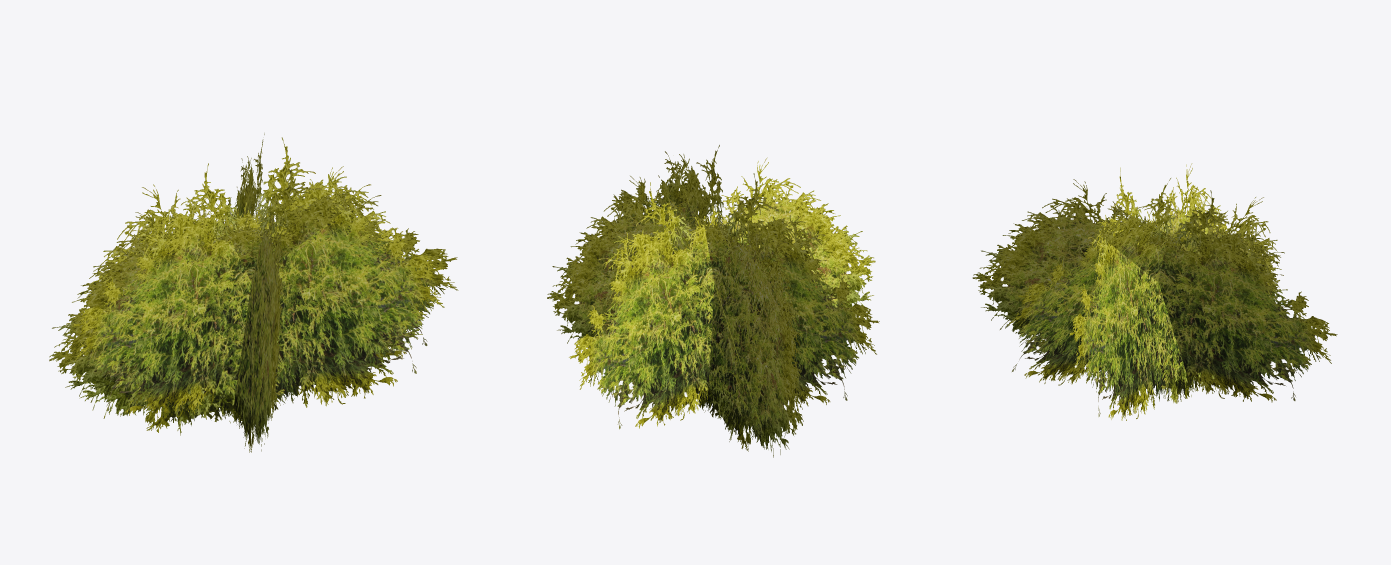
File: Struik1.fbx
3 views of the same model, side by side, from view 1: azimuth 30°, elevation 25°; view 2: azimuth 150°, elevation 25°; view 3: azimuth 270°, elevation 25° (orthographic). The views are drawn at different scales.
Visible parts, largest first — view 1: struik.006, struik, struik.001, struik.002, struik.003; view 2: struik.006, struik.003, struik.002, struik; view 3: struik.006, struik.002, struik.003, struik.001.
Boxes of the visible parts, x1,y1,x2,y2 form: struik.006: (50, 133, 458, 452); struik: (71, 163, 270, 411); struik.001: (68, 138, 442, 432); struik.002: (49, 162, 381, 401); struik.003: (223, 155, 258, 223); struik.006: (640, 145, 879, 449); struik.003: (569, 182, 727, 429); struik.002: (612, 151, 800, 457); struik: (547, 176, 864, 407); struik.006: (1007, 163, 1337, 402); struik.002: (1069, 179, 1216, 420); struik.003: (972, 179, 1157, 353); struik.001: (1007, 185, 1280, 385).
Bounding box in the file's own units: 107 × 115 × 108.
Materials: 1 (1 with a texture image).
